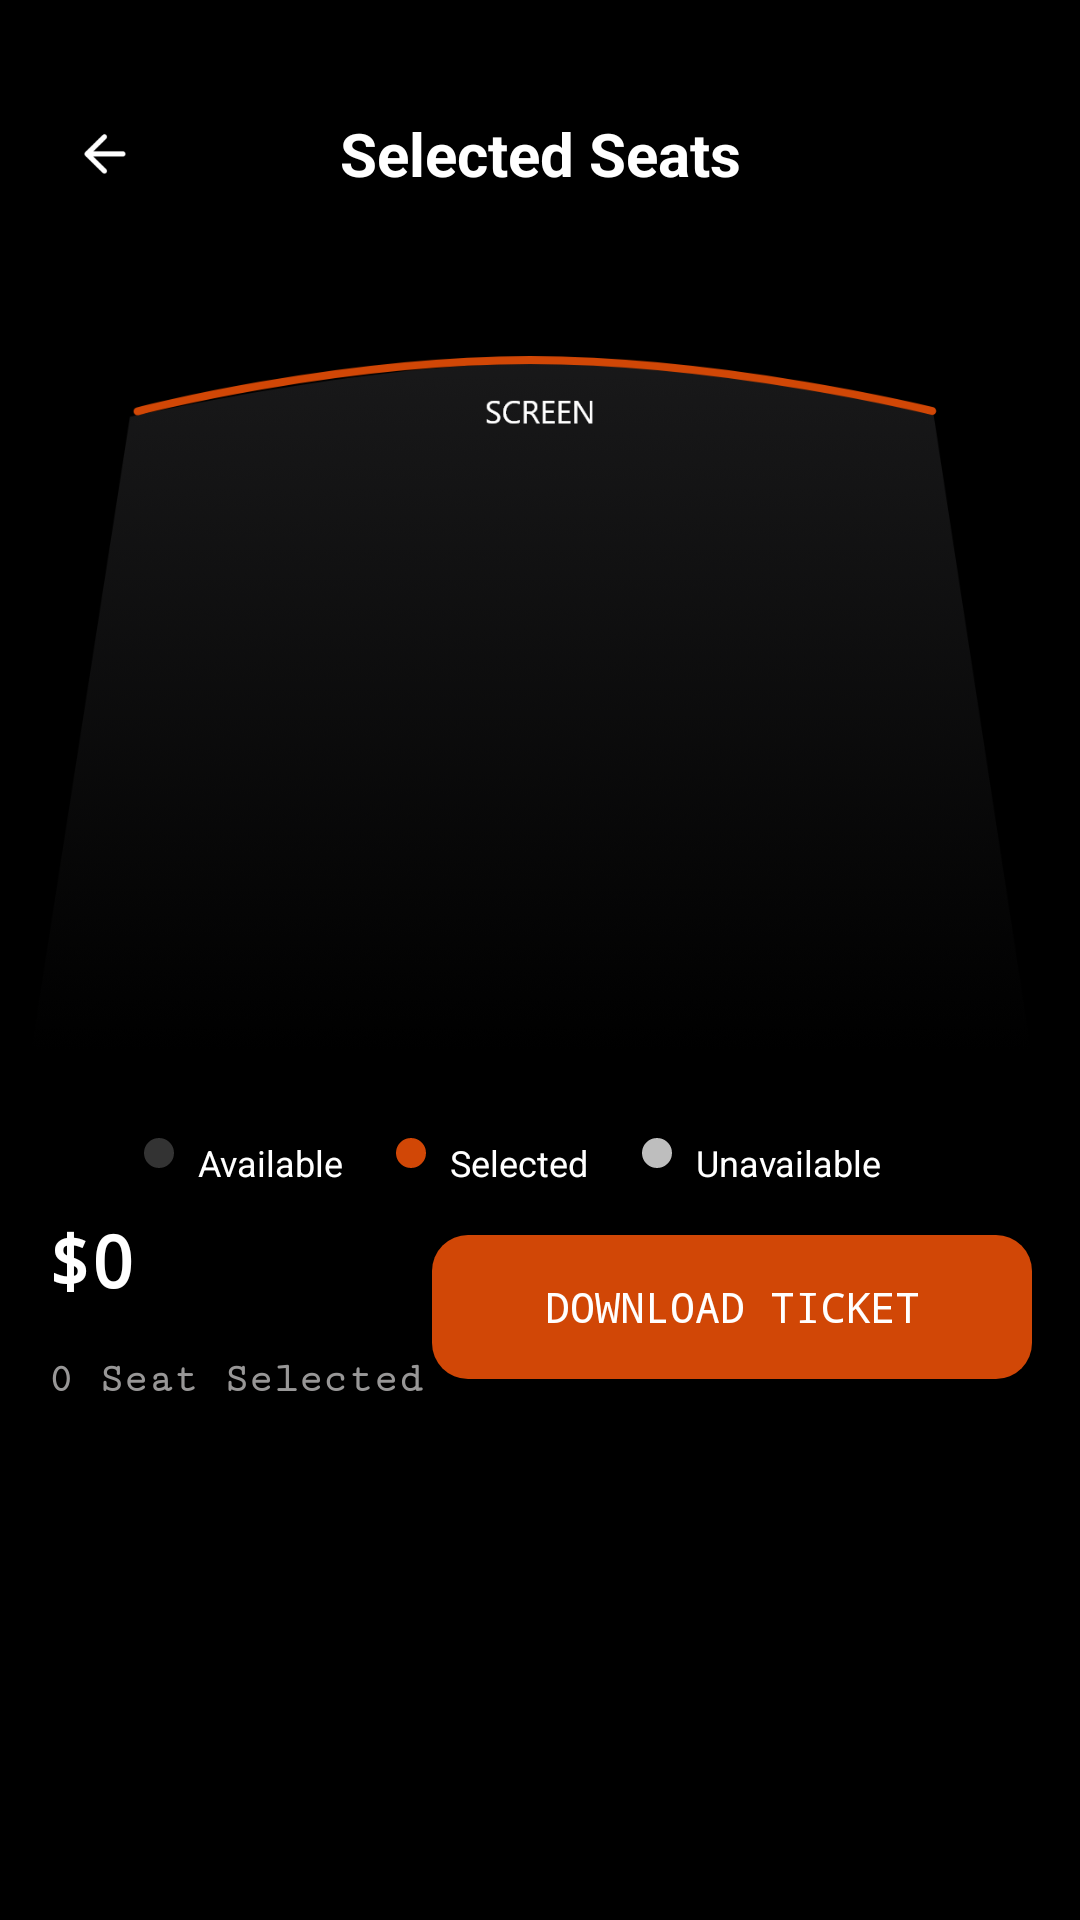

Point at icon controls on the screen. Image size 1080px x 1920px, points as (x,y).
back: (105,154)
